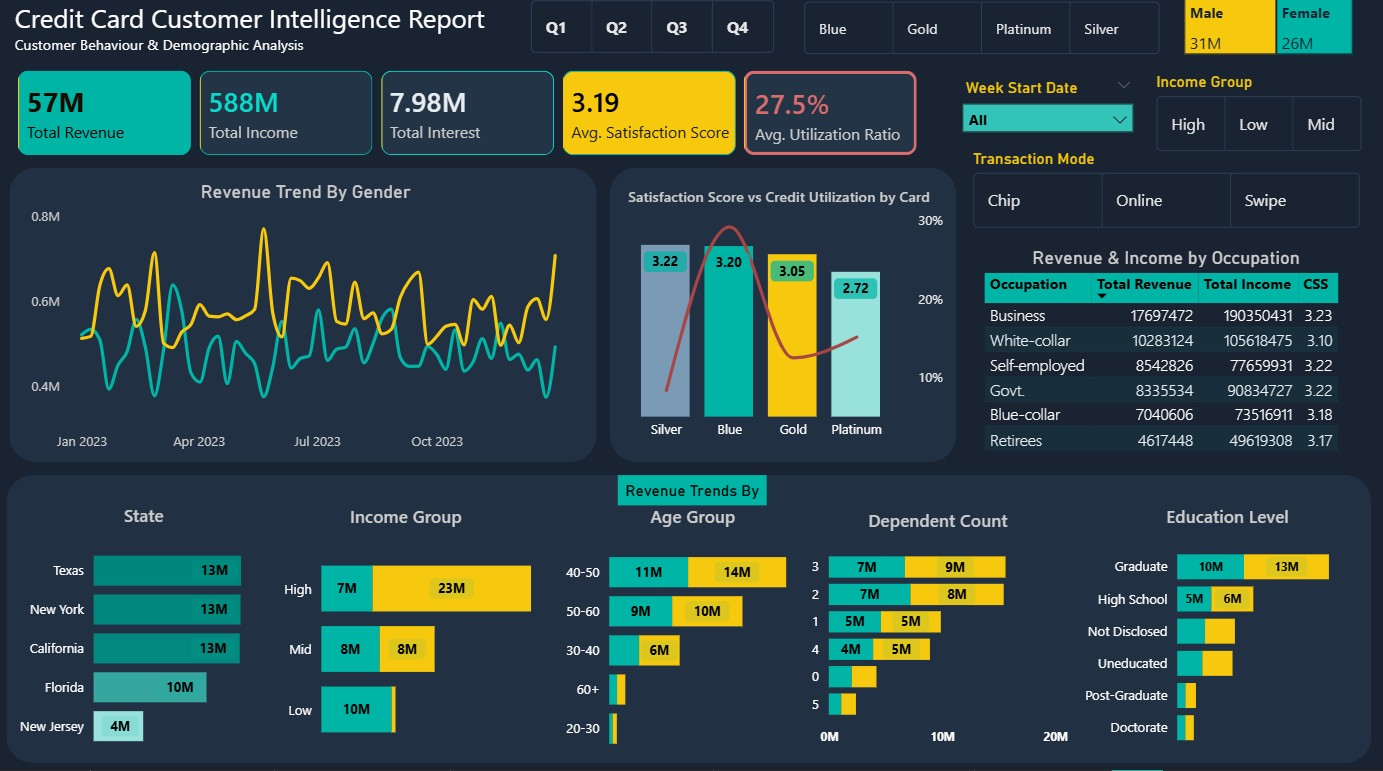

This screenshot's page, from the dashboard's own definition file:
{"tool":"powerbi","page":{"name":"Customer Report","canvas":[1280,720],"ordinal":1},"visuals":[{"type":"textbox","box":[9.1,2.6,491,77],"z":0},{"type":"shape","box":[8.6,162.5,543.8,272.5],"z":0,"group":"g3"},{"type":"shape","box":[564,163,320.8,272.5],"z":0,"group":"g4"},{"type":"tableEx","title":"Revenue & Income by Occupation","fields":{"Values":["public cust_detail.customer_job","Key Measures.Total Revenue","Sum(public cust_detail.income)","Key Measures.Avg CSS"]},"box":[905.3,235.5,348.4,204],"z":1000,"group":"g5"},{"type":"shape","box":[6.1,447.3,1263.6,266.4],"z":1000},{"type":"barChart","title":"State","fields":{"Y":["Key Measures.Total Revenue"],"Category":["public cust_detail.State Full Name"]},"box":[7.3,472.9,251.7,240.7],"z":2000},{"type":"cardVisual","fields":{"Data":["Key Measures.Total Revenue","Sum(public cust_detail.income)","Key Measures.Total Interest","Key Measures.Avg CSS","Key Measures.Avg Utilization Ratio"]},"box":[0,56.2,866.4,112.4],"z":3000},{"type":"barChart","title":"Income Group","fields":{"Y":["Sum(public cc_detail.Revenue)"],"Category":["public cust_detail.IncomeGroup"],"Series":["public cust_detail.Full Gender"]},"box":[254.2,474.1,243.2,240.7],"z":4000},{"type":"barChart","title":"Education Level","fields":{"Y":["Key Measures.Total Revenue"],"Category":["public cust_detail.education_level"],"Series":["public cust_detail.Full Gender"]},"box":[993.5,474.1,286,235.9],"z":5000},{"type":"advancedSlicerVisual","fields":{"Values":["public cc_detail.qtr"]},"box":[486.2,2.6,238.4,59.6],"z":6000},{"type":"barChart","title":"Dependent Count","fields":{"Category":["public cust_detail.dependent_count"],"Series":["public cust_detail.Full Gender"],"Y":["Sum(public cc_detail.Revenue)"]},"box":[743,477.8,250.5,229.7],"z":7000},{"type":"slicer","fields":{"Values":["public cc_detail.week_start_date"]},"box":[881.1,74.5,178.4,72.1],"z":8000},{"type":"group","id":"g1","title":"Group 3","box":[564,163,320.8,272.5],"z":8000,"group":"g9"},{"type":"barChart","title":"Age Group","fields":{"Category":["public cust_detail.AgeGroup"],"Y":["Key Measures.Total Revenue"],"Series":["public cust_detail.Full Gender"]},"box":[515.7,474.1,251.7,242],"z":9000},{"type":"advancedSlicerVisual","fields":{"Values":["public cc_detail.card_category"]},"box":[739.2,4,339.1,59.6],"z":10000},{"type":"advancedSlicerVisual","title":"Income Group","fields":{"Values":["public cust_detail.IncomeGroup"]},"box":[1065.6,74.5,201.6,78.2],"z":11000},{"type":"lineClusteredColumnComboChart","title":"Satisfaction Score vs Credit Utilization by Card","fields":{"Category":["public cc_detail.card_category"],"Y":["Key Measures.Avg CSS by Card"],"Y2":["Key Measures.Avg Utilization Ratio"]},"box":[564,180.1,313.3,243.2],"z":11000,"group":"g9"},{"type":"group","id":"g2","title":"Group 3","box":[8.6,162.5,543.8,272.5],"z":12000},{"type":"textbox","box":[571.9,447.3,138.1,28.1],"z":13000},{"type":"group","id":"g3","title":"Group 2","box":[8.6,162.5,543.8,272.5],"z":13500,"group":"g7"},{"type":"group","id":"g4","title":"Group 2","box":[564,163,320.8,272.5],"z":13500,"group":"g8"},{"type":"treemap","fields":{"Group":["public cust_detail.Full Gender"],"Values":["Key Measures.Total Revenue"]},"box":[1091.5,0,165.6,62.3],"z":14000},{"type":"lineChart","title":"Revenue Trend By Gender","fields":{"Category":["public cc_detail.week_start_date"],"Y":["Key Measures.Total Revenue"],"Series":["public cust_detail.Full Gender"]},"box":[23.5,174.1,519.5,259.6],"z":15000,"group":"g7"},{"type":"group","id":"g5","title":"Group 5","box":[892.1,223.6,375.2,215.1],"z":15000},{"type":"group","id":"g6","title":"Group 6","box":[564,163,320.8,272.5],"z":16000},{"type":"group","id":"g7","title":"Group 4","box":[8.6,162.5,543.8,272.5],"z":16002,"group":"g2"},{"type":"group","id":"g8","title":"Group 4","box":[564,163,320.8,272.5],"z":16002,"group":"g1"},{"type":"advancedSlicerVisual","title":"Transaction Mode","fields":{"Values":["public cc_detail.use_chip"]},"box":[895.5,145.7,370.9,78.2],"z":17001},{"type":"group","id":"g9","title":"Group 1","box":[564,163,320.8,272.5],"z":17002,"group":"g6"}]}

Visuals, with their boxes in screenshot pixels (x1, y1, x2, y2), scaled from the page's 1280x720 canvas onto the 1383x771 screenshot:
textbox: bbox(10, 3, 540, 85)
shape: bbox(9, 174, 597, 466)
shape: bbox(609, 175, 956, 466)
"Revenue & Income by Occupation" tableEx: bbox(978, 252, 1355, 471)
shape: bbox(7, 479, 1372, 764)
"State" barChart: bbox(8, 506, 280, 764)
cardVisual - Key Measures.Total Revenue x Sum(public cust_detail.income): bbox(0, 60, 936, 181)
"Income Group" barChart: bbox(275, 508, 537, 765)
"Education Level" barChart: bbox(1073, 508, 1382, 760)
advancedSlicerVisual - public cc_detail.qtr: bbox(525, 3, 783, 67)
"Dependent Count" barChart: bbox(803, 512, 1073, 758)
slicer - public cc_detail.week_start_date: bbox(952, 80, 1145, 157)
"Group 3" group: bbox(609, 175, 956, 466)
"Age Group" barChart: bbox(557, 508, 829, 767)
advancedSlicerVisual - public cc_detail.card_category: bbox(799, 4, 1165, 68)
"Income Group" advancedSlicerVisual: bbox(1151, 80, 1369, 164)
"Satisfaction Score vs Credit Utilization by Card" lineClusteredColumnComboChart: bbox(609, 193, 948, 453)
"Group 3" group: bbox(9, 174, 597, 466)
textbox: bbox(618, 479, 767, 509)
"Group 2" group: bbox(9, 174, 597, 466)
"Group 2" group: bbox(609, 175, 956, 466)
treemap - public cust_detail.Full Gender x Key Measures.Total Revenue: bbox(1179, 0, 1358, 67)
"Revenue Trend By Gender" lineChart: bbox(25, 186, 587, 464)
"Group 5" group: bbox(964, 239, 1369, 470)
"Group 6" group: bbox(609, 175, 956, 466)
"Group 4" group: bbox(9, 174, 597, 466)
"Group 4" group: bbox(609, 175, 956, 466)
"Transaction Mode" advancedSlicerVisual: bbox(968, 156, 1368, 240)
"Group 1" group: bbox(609, 175, 956, 466)
